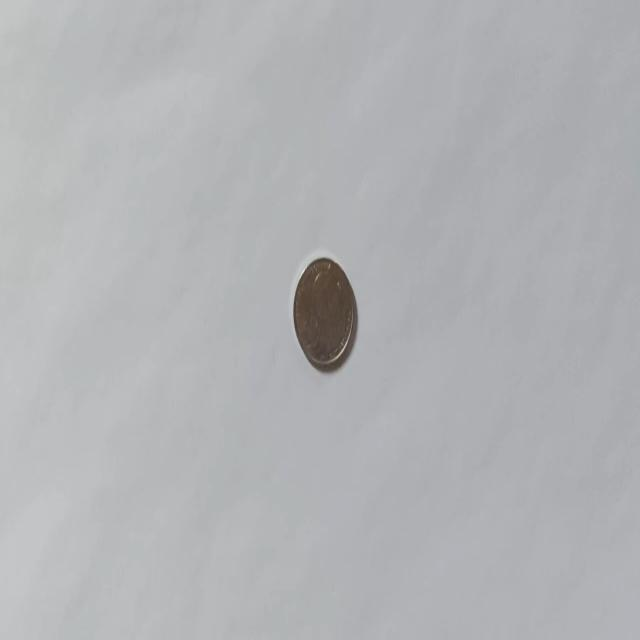seribu rupiah koin: (291, 252, 357, 372)
